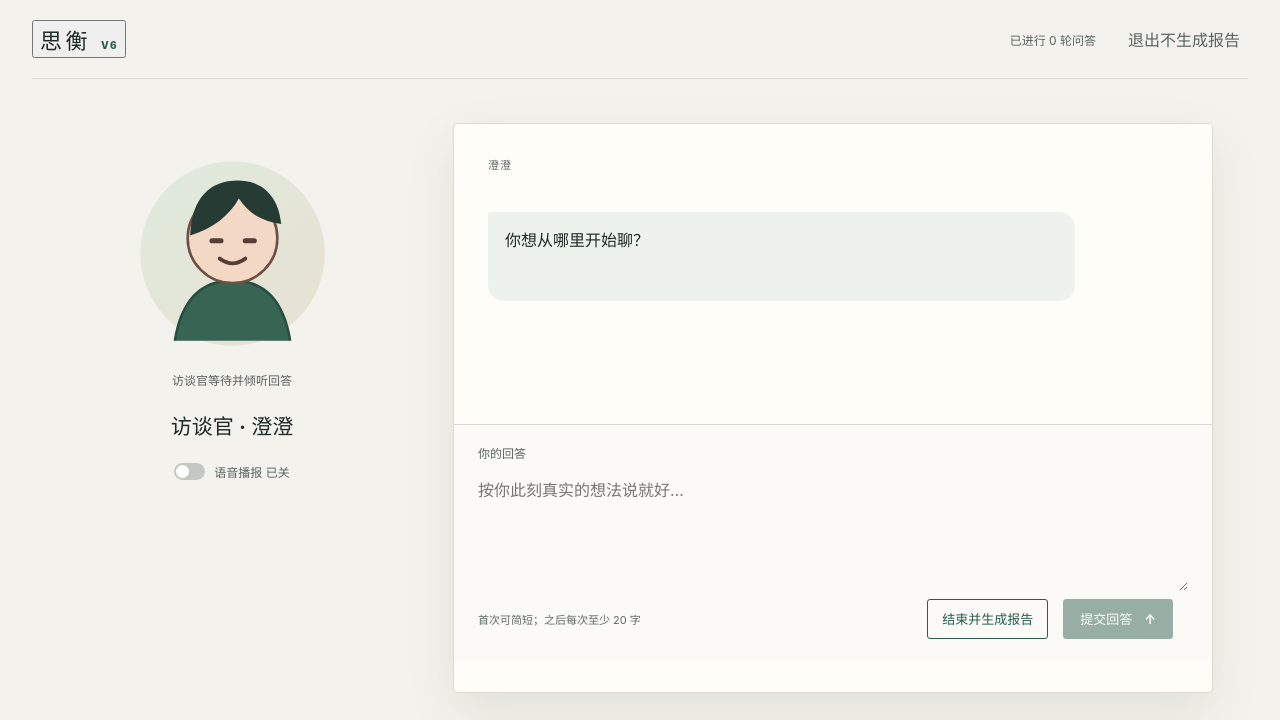
InterviewView › does not misdescribe an in-progress check as insufficient evidence
The width and height of the screenshot is (1280, 720).
Click the button with class "compact-action" at (988, 619), box [927, 599, 1048, 639]
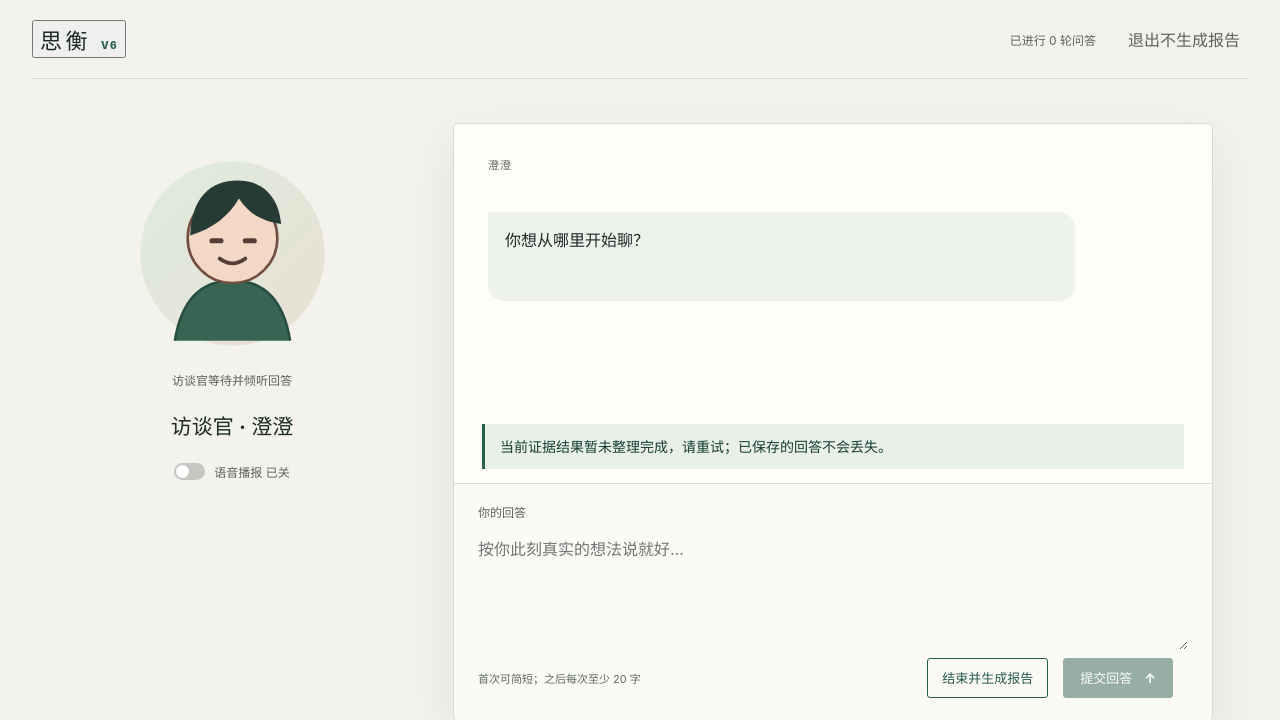
Expected: the text "请重试" is shown, [500, 438, 892, 455]
